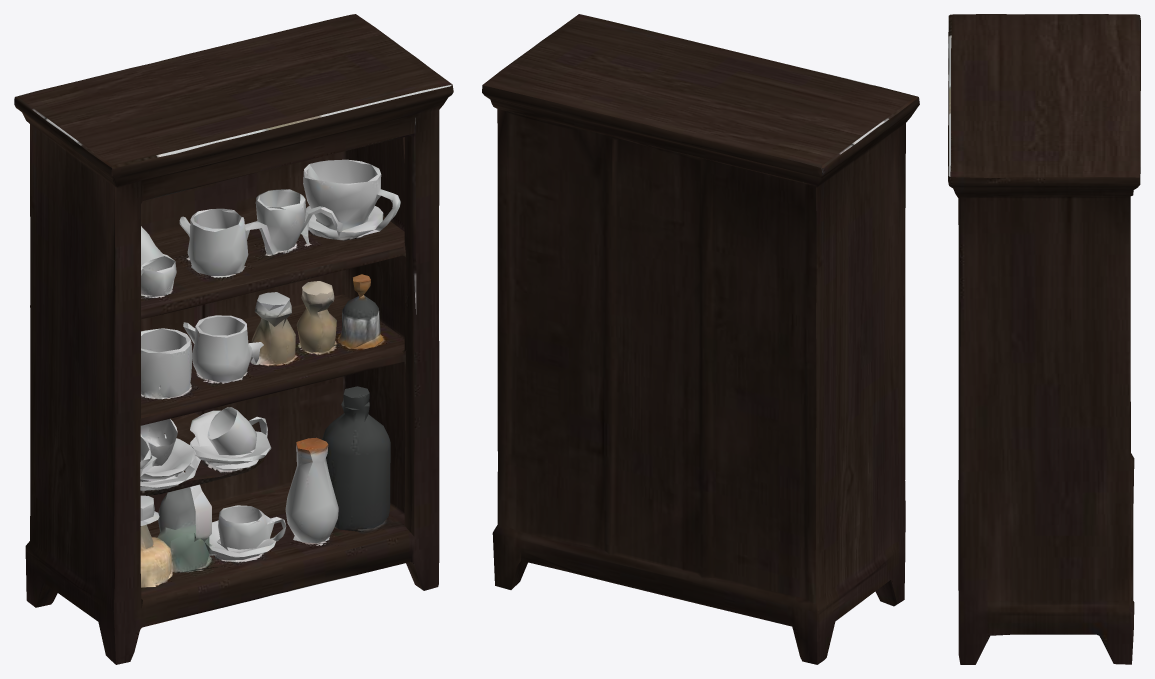
The model's file is cabinet.glb.
3 views of the same model, side by side, from view 1: azimuth 30°, elevation 25°; view 2: azimuth 150°, elevation 25°; view 3: azimuth 270°, elevation 25° (orthographic). The views are drawn at different scales.
Visible parts, largest first — view 1: cabinet; view 2: cabinet; view 3: cabinet.
Part boxes in pixels (bbox=[...]): cabinet: bbox=[14, 14, 453, 664]; cabinet: bbox=[482, 14, 919, 664]; cabinet: bbox=[948, 14, 1140, 664].
Bounding box in the file's own units: 1.42 × 2 × 0.7063.
1 material, 1 textured.
